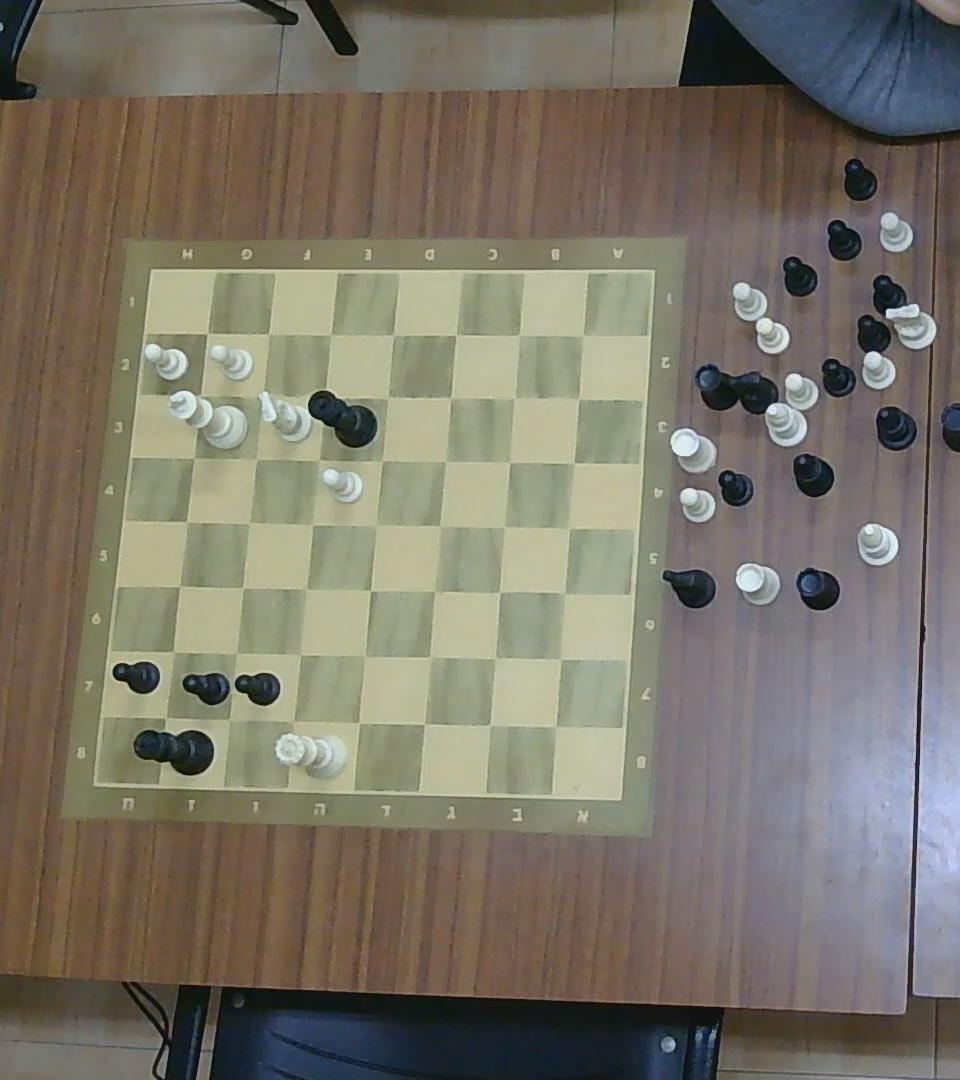xcorner: (477, 712, 503, 738), (542, 714, 569, 739), (246, 382, 272, 407), (412, 711, 437, 736), (347, 709, 371, 734), (281, 708, 305, 732), (418, 644, 442, 668), (482, 646, 506, 669), (353, 644, 376, 668), (288, 642, 311, 666), (154, 705, 178, 728), (439, 387, 461, 408), (218, 708, 240, 729), (549, 648, 571, 668), (319, 324, 341, 344), (188, 386, 210, 406), (225, 642, 245, 663), (423, 581, 443, 602), (183, 447, 203, 467), (429, 516, 449, 536), (366, 514, 386, 534), (372, 450, 392, 470), (559, 518, 579, 538), (378, 387, 397, 408), (247, 448, 266, 469), (296, 578, 315, 599), (170, 576, 189, 597), (435, 450, 454, 470), (489, 582, 508, 602), (361, 580, 380, 600), (198, 322, 217, 342), (309, 450, 328, 470), (555, 582, 574, 602), (446, 325, 465, 345), (259, 324, 278, 344), (177, 511, 196, 531), (384, 325, 403, 345), (315, 386, 334, 406), (240, 513, 259, 532), (303, 514, 321, 534), (495, 516, 513, 536), (500, 452, 518, 472), (505, 388, 523, 407), (564, 453, 583, 471), (165, 643, 183, 662), (233, 579, 251, 598), (511, 327, 529, 344), (573, 327, 591, 344), (572, 390, 588, 405)
